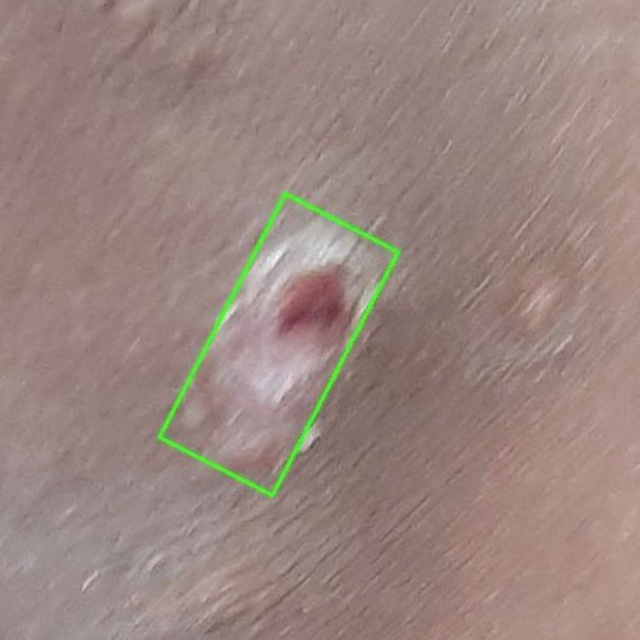Eczema: (159, 194, 397, 495)
